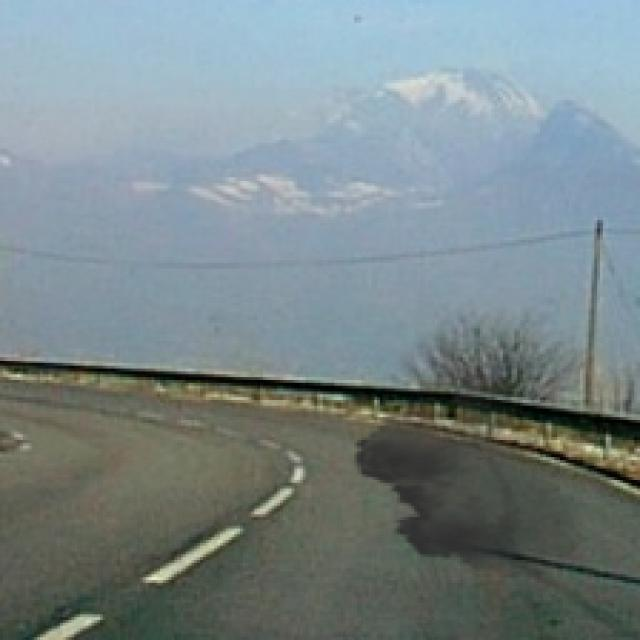smoke: (343, 366, 600, 577)
